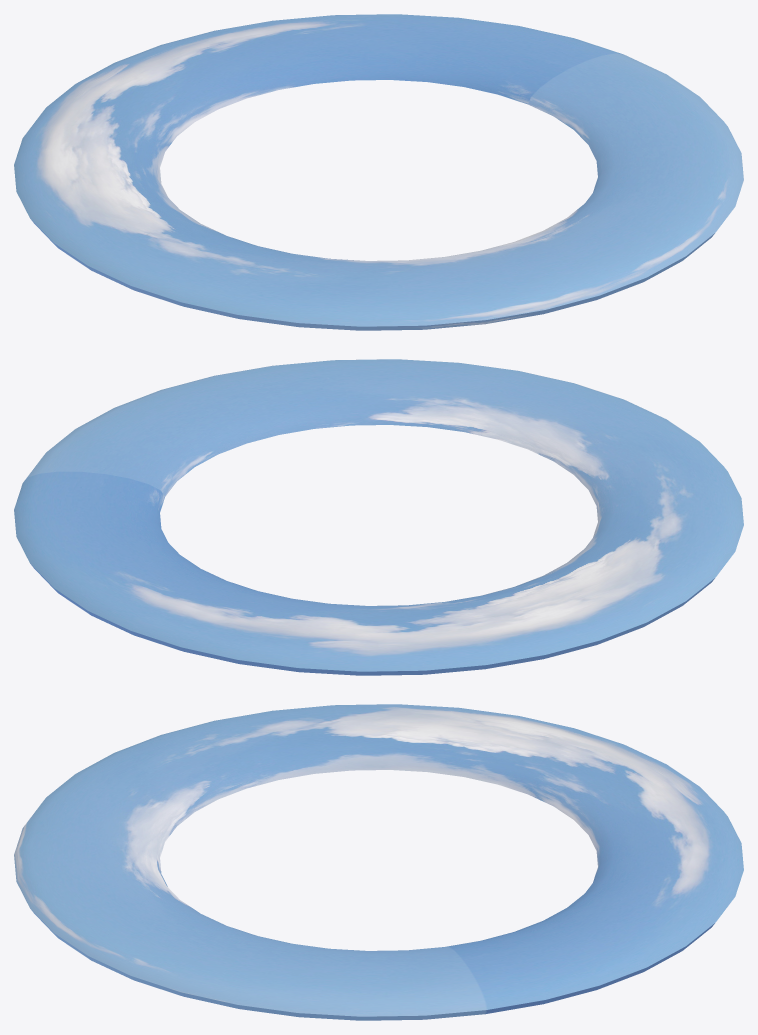
Rendered from fly_sky_technique_experimental.glb.
The picture shows the model from 3 angles, top to bottom: view 1: azimuth 30°, elevation 25°; view 2: azimuth 150°, elevation 25°; view 3: azimuth 270°, elevation 25°; orthographic projection.
Parts seen in each view (by area): view 1: Adjust_Rotation_Keyframe; view 2: Adjust_Rotation_Keyframe; view 3: Adjust_Rotation_Keyframe.
Part boxes in pixels (x1=…): Adjust_Rotation_Keyframe: x1=14, y1=14, x2=743, y2=330; Adjust_Rotation_Keyframe: x1=14, y1=359, x2=743, y2=675; Adjust_Rotation_Keyframe: x1=14, y1=704, x2=743, y2=1020.
Size of the model in its own units: 482 by 16.76 by 482.
1 material, 1 textured.
